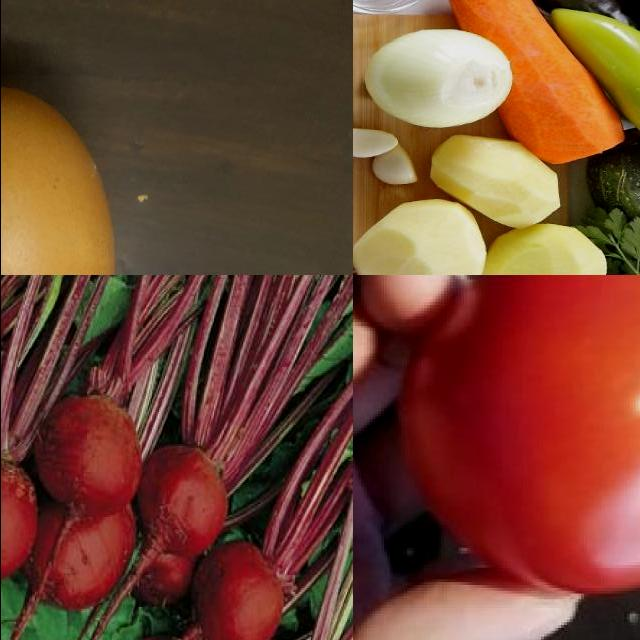beet: (35, 394, 146, 516), (21, 507, 137, 609), (134, 443, 229, 567), (194, 533, 283, 640), (1, 441, 29, 614)
bell_pepper: (626, 54, 640, 156)
carrot: (513, 68, 598, 156)
egg: (1, 82, 126, 276)
garlic: (353, 125, 416, 188)
onion: (376, 38, 506, 122)
potato: (432, 143, 566, 215), (362, 207, 477, 276), (477, 233, 599, 276)
tomato: (384, 276, 640, 604)
zucchini: (612, 153, 640, 276)
